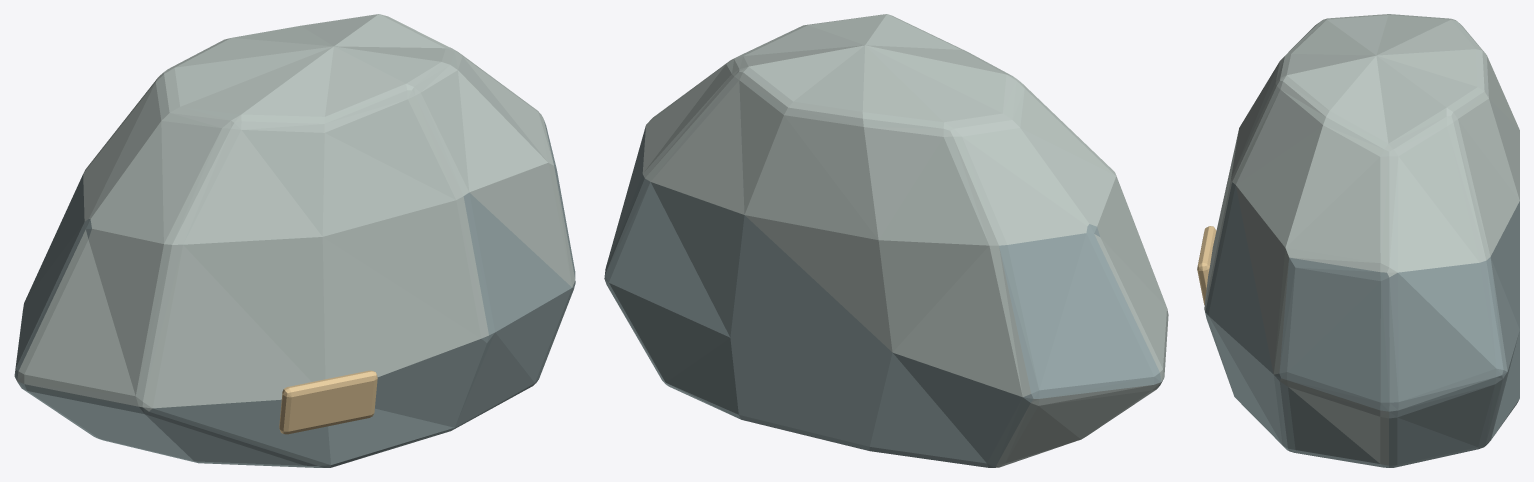
Rendered from foam_rock.glb.
The picture shows the model from 3 angles, left to right: view 1: azimuth 30°, elevation 25°; view 2: azimuth 150°, elevation 25°; view 3: azimuth 270°, elevation 25°; orthographic projection. The views are drawn at different scales.
Visible parts, largest first — view 1: foam_rock_sculpt, foam_patch; view 2: foam_rock_sculpt; view 3: foam_rock_sculpt, foam_patch.
Boxes of the visible parts, <box> form: foam_rock_sculpt: <box>14,14,575,467</box>; foam_patch: <box>279,370,377,434</box>; foam_rock_sculpt: <box>604,14,1168,467</box>; foam_rock_sculpt: <box>1204,14,1519,467</box>; foam_patch: <box>1197,226,1216,304</box>.
Bounding box in the file's own units: 1.14 × 0.69 × 0.6187.
